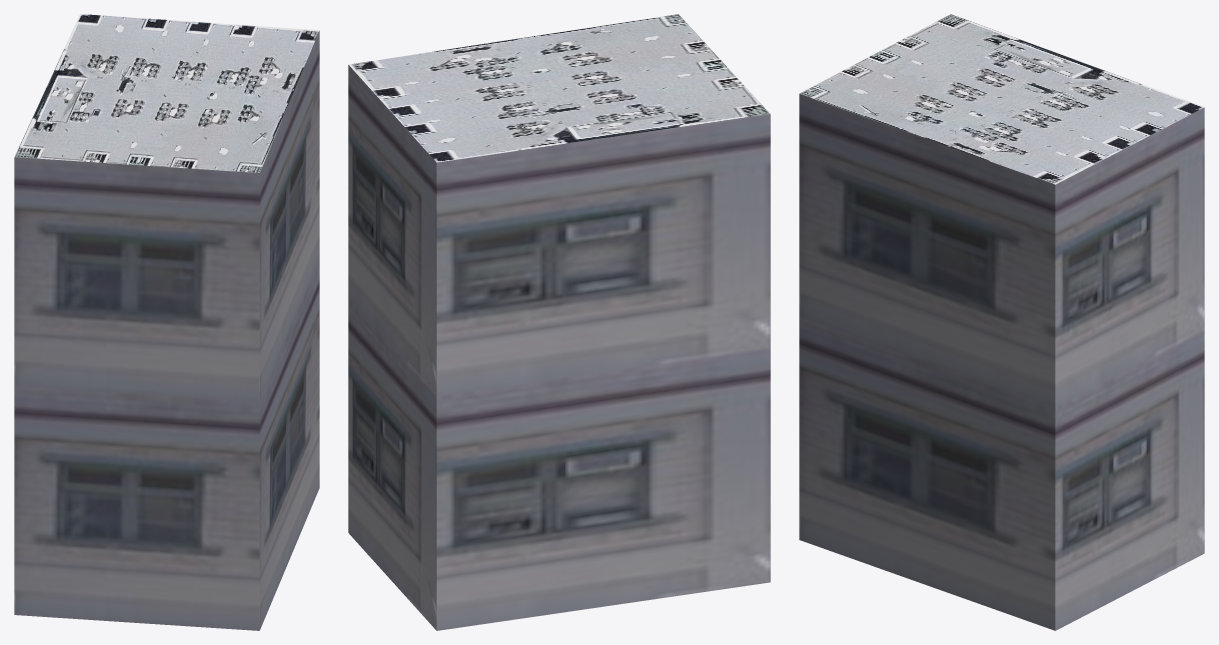
Rendered from ResTex__2276.fbx.
3 views of the same model, side by side, from view 1: azimuth 30°, elevation 25°; view 2: azimuth 150°, elevation 25°; view 3: azimuth 270°, elevation 25° (orthographic). The views are drawn at different scales.
Parts seen in each view (by area): view 1: CityEngineMaterial_1_m, CityEngineMaterial_4_m; view 2: CityEngineMaterial_1_m, CityEngineMaterial_4_m; view 3: CityEngineMaterial_1_m, CityEngineMaterial_4_m.
Part boxes in pixels (x1,y1,x2,y2): CityEngineMaterial_1_m: (14, 31, 319, 630); CityEngineMaterial_4_m: (14, 14, 319, 172); CityEngineMaterial_1_m: (348, 65, 770, 630); CityEngineMaterial_4_m: (349, 14, 769, 162); CityEngineMaterial_1_m: (799, 94, 1204, 630); CityEngineMaterial_4_m: (799, 14, 1204, 184).
Bounding box in the file's own units: 4.92 × 6 × 4.94.
Materials: 2 (2 with a texture image).
